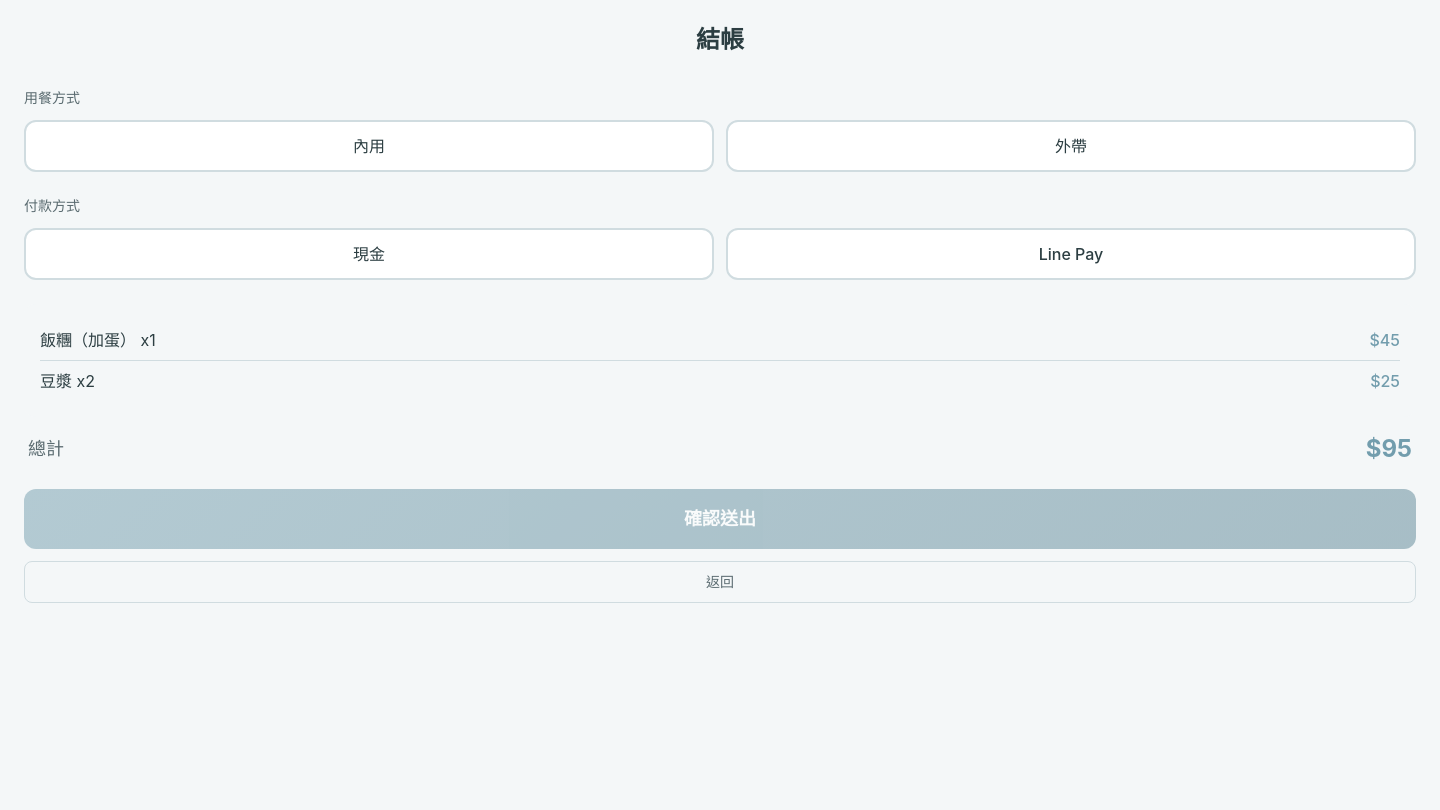
Test: CheckoutFlow › 手動結帳（一頁式） › API 失敗時應顯示錯誤訊息
Click the button "內用": {"x": 369, "y": 146} x1=24 y1=120 x2=714 y2=172
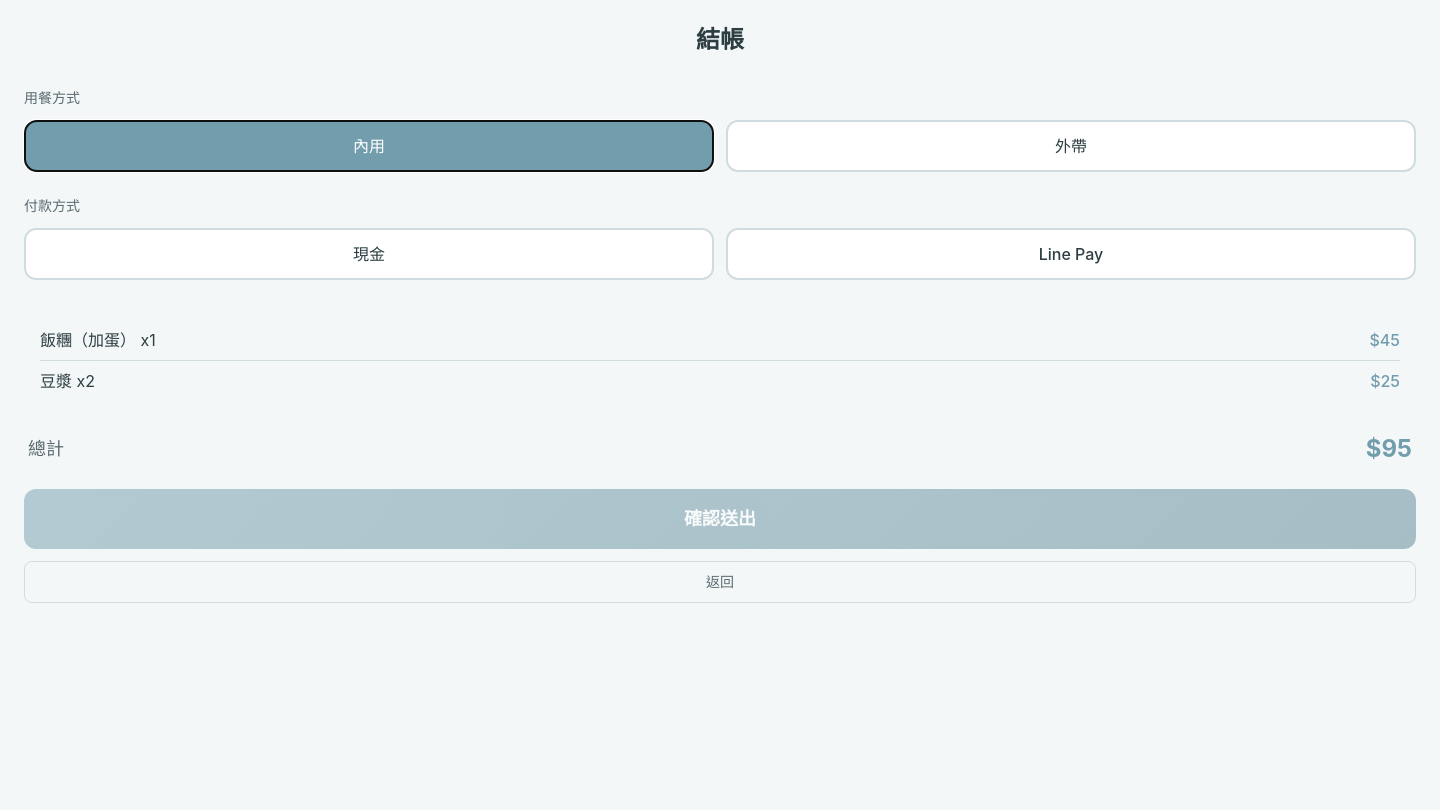
Click the button "現金": {"x": 369, "y": 254} x1=24 y1=228 x2=714 y2=280
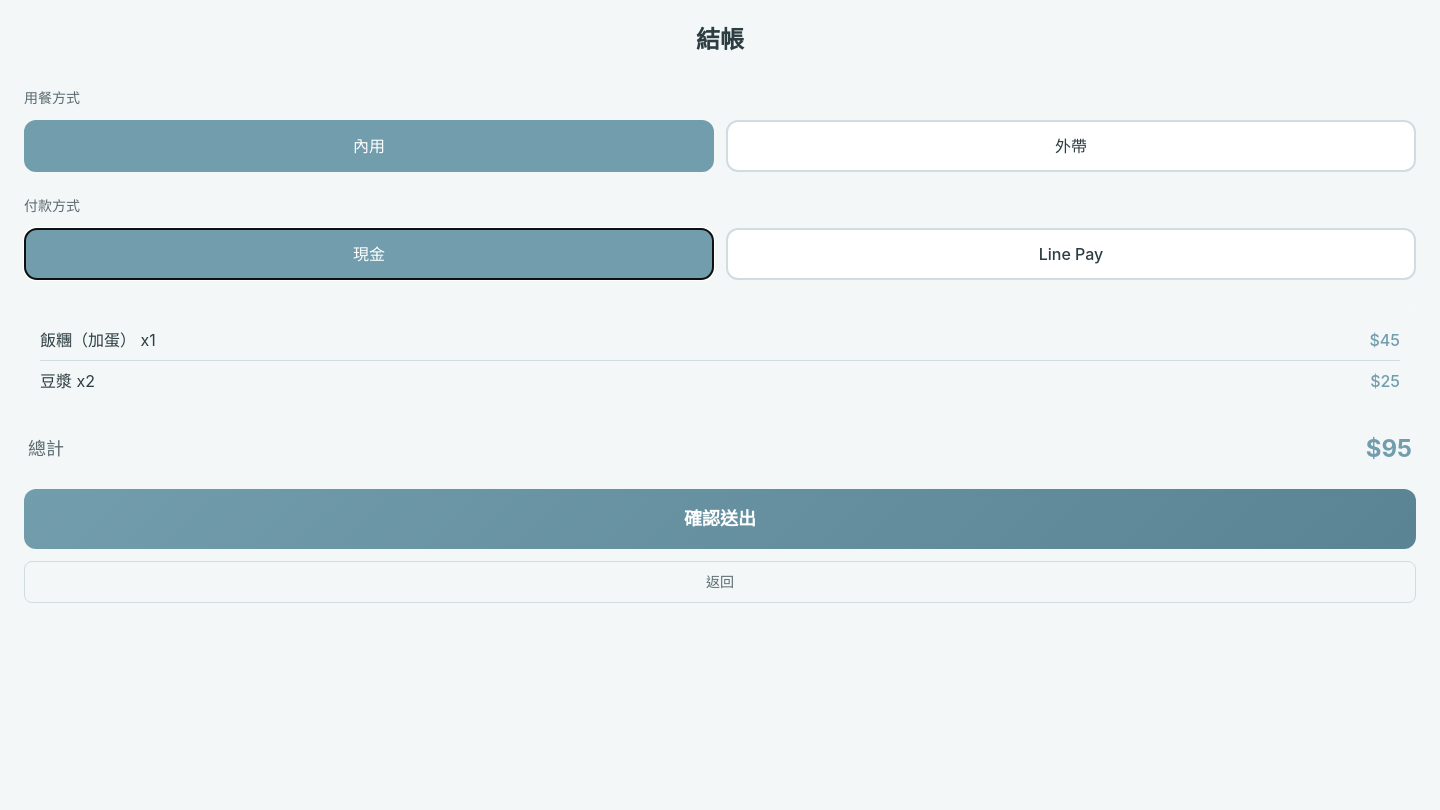
Click the button "確認送出": {"x": 720, "y": 519} x1=24 y1=489 x2=1416 y2=549
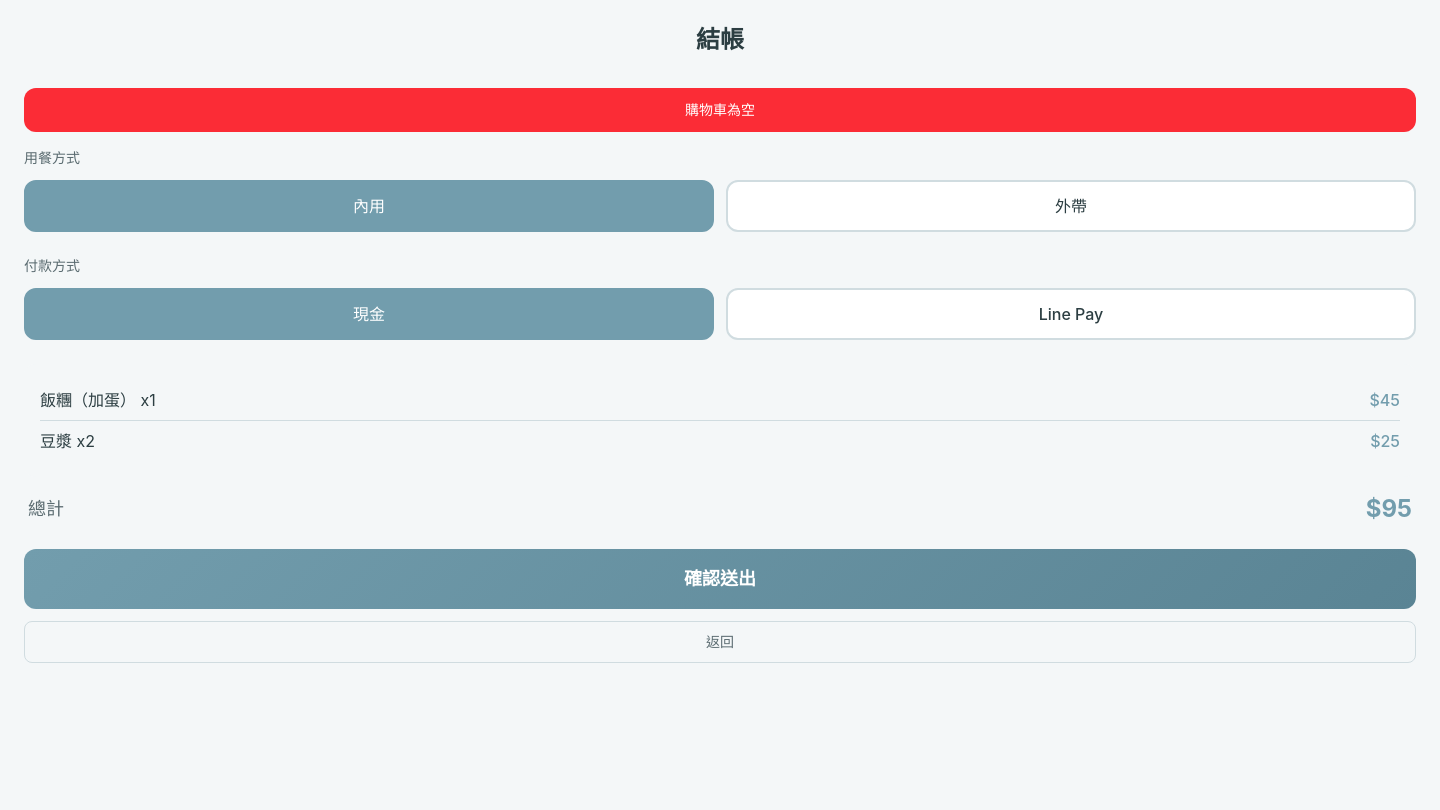
Expected: the text "購物車為空" is shown, x1=24 y1=88 x2=1416 y2=132
